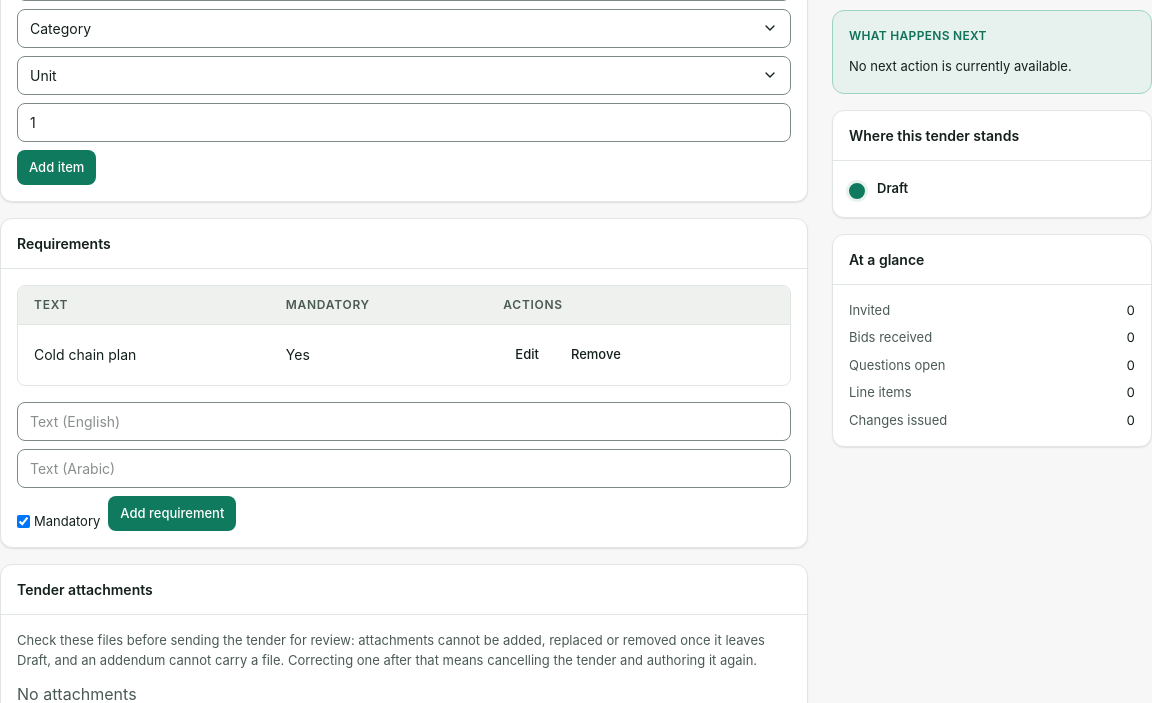
RfqDetailPage › Draft: a requirement can be corrected, and an edit can be abandoned
This screenshot has width=1152, height=703.
(page scrolled)
Click the button "Edit": (527, 355) x1=503 y1=337 x2=551 y2=372
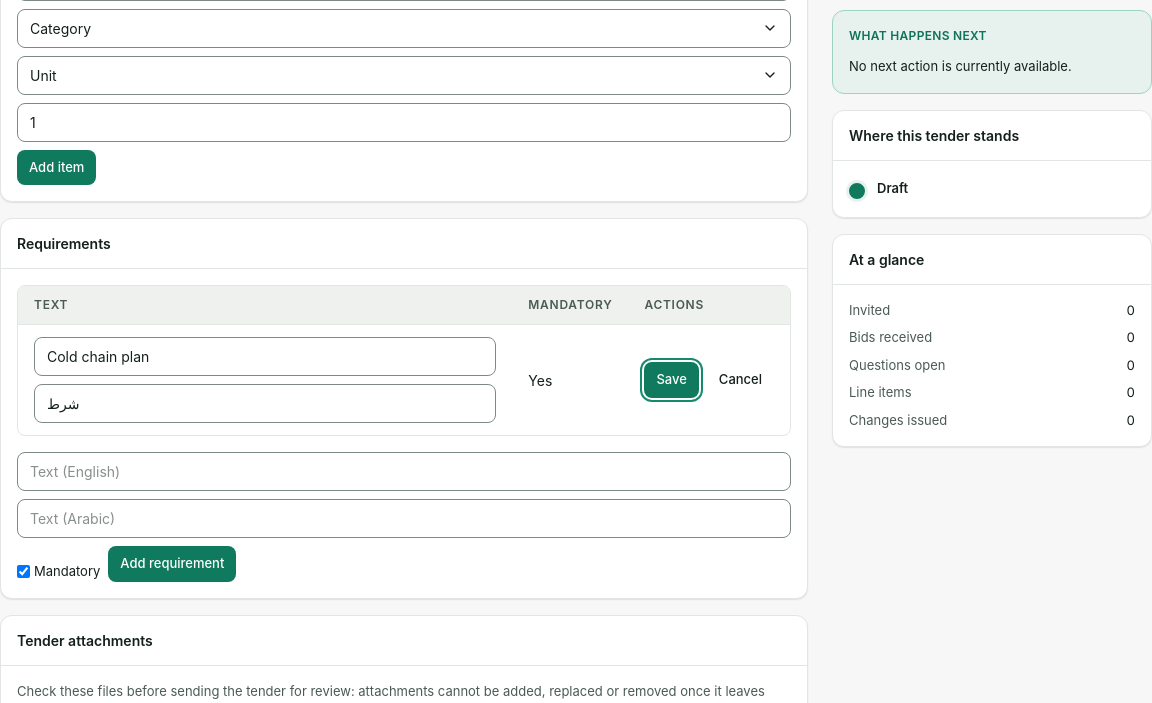
Click the button "Cancel": (740, 380) x1=707 y1=362 x2=774 y2=398
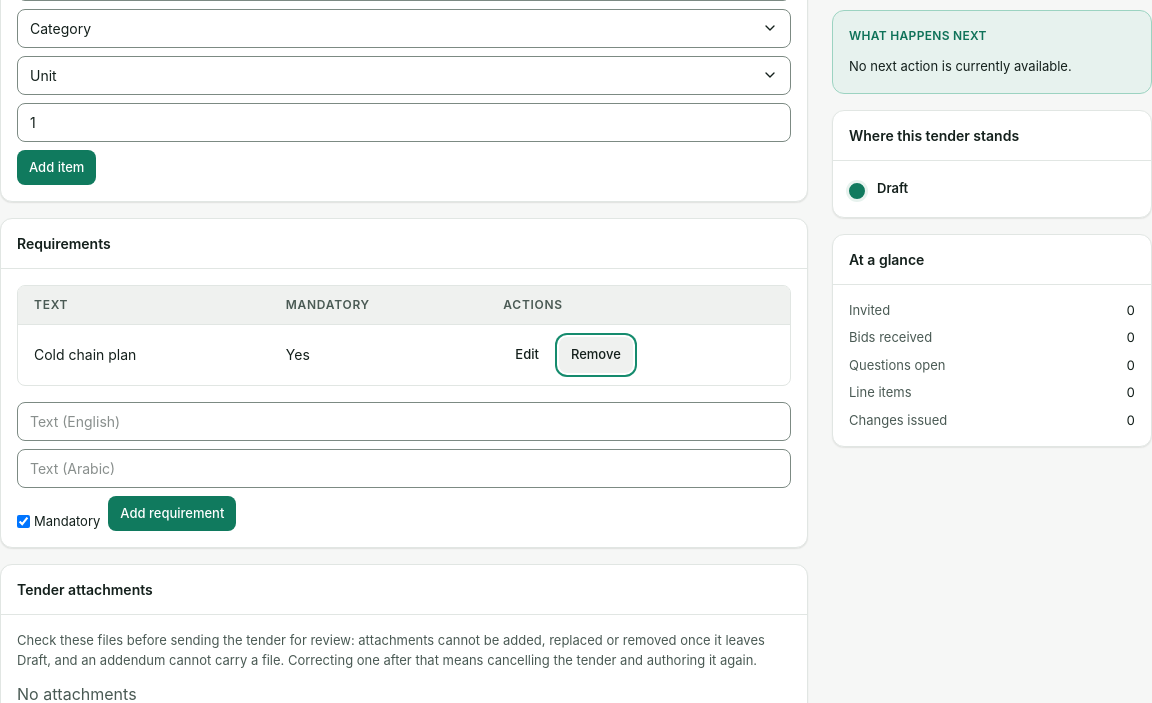
Click the button "Edit": (527, 355) x1=503 y1=337 x2=551 y2=372
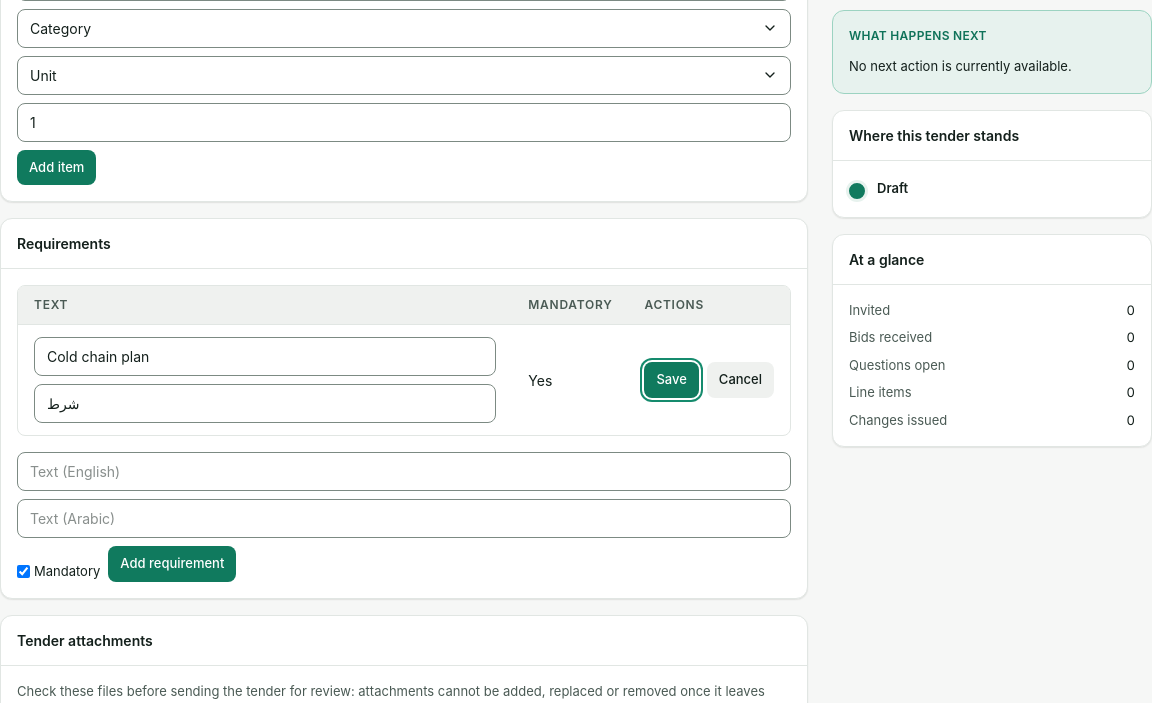
Replace the text in the field named "Text (English) — 1" with "Cold chain plan for twelve sites": (265, 356) x1=34 y1=337 x2=496 y2=376
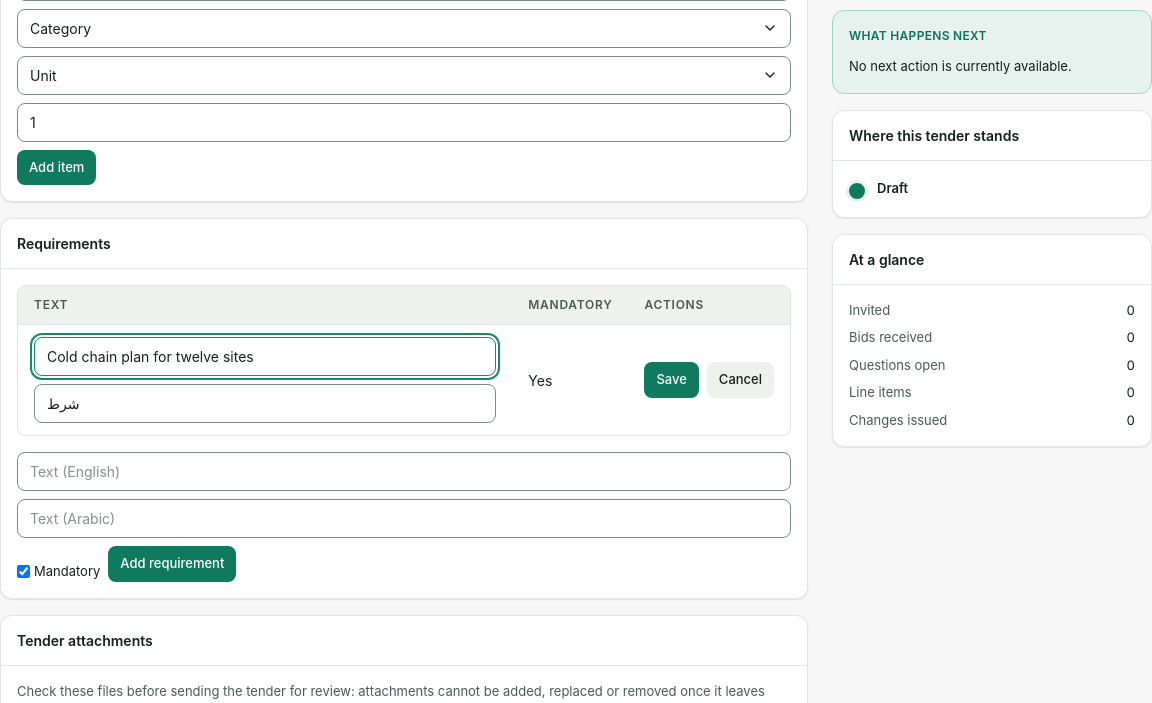
Click the button "Save": (672, 380) x1=644 y1=362 x2=699 y2=398
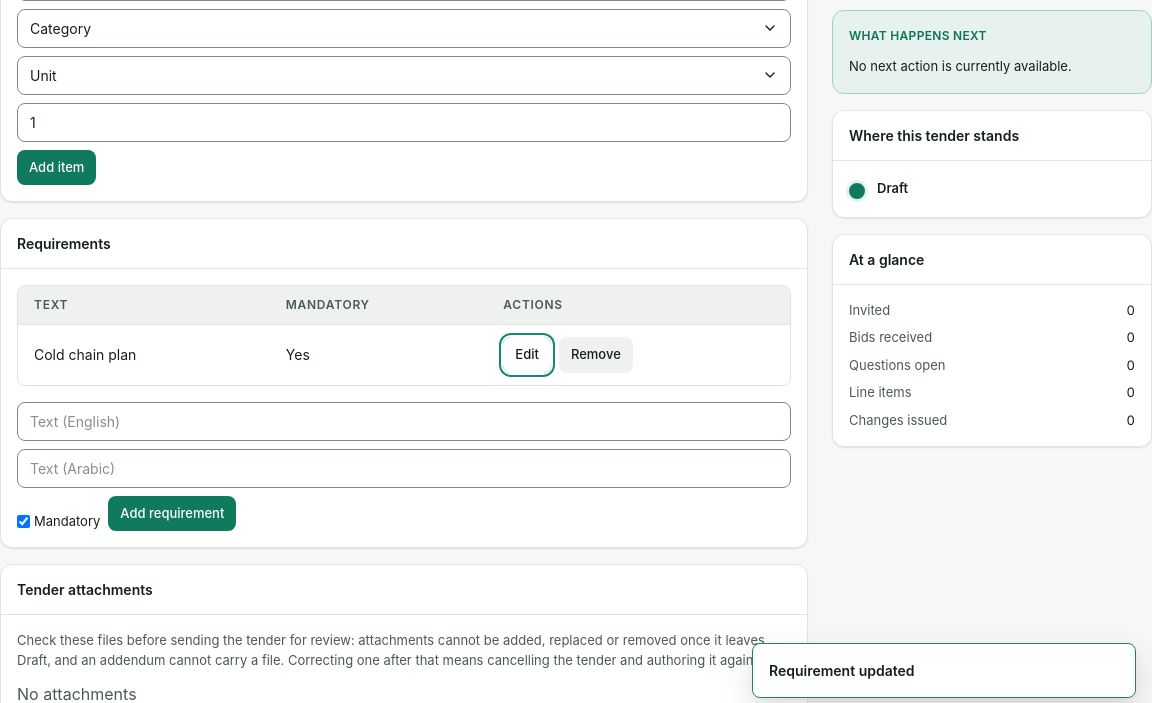
Now the text "Requirement updated" is shown, box x1=769 y1=662 x2=915 y2=679
